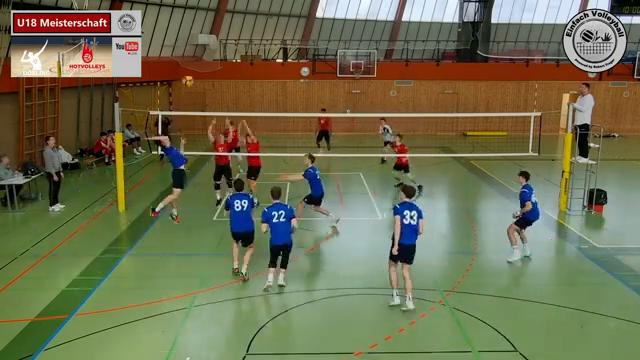attacco: (146, 129, 191, 228)
